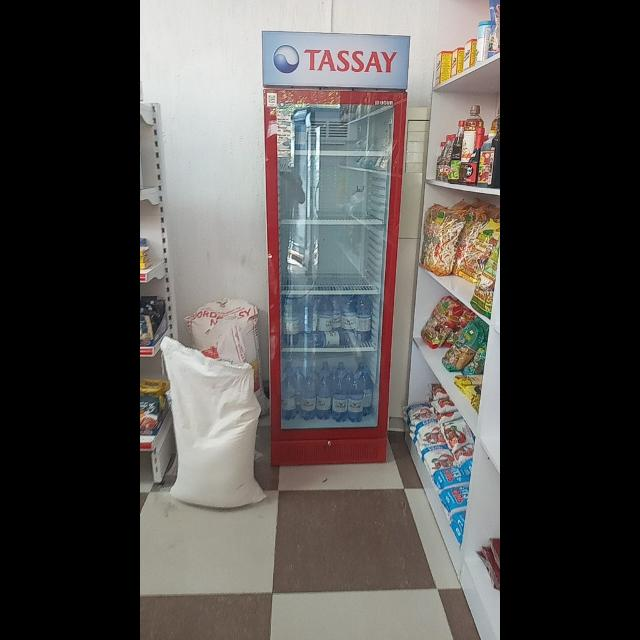Cooling-Display: (260, 29, 410, 464)
